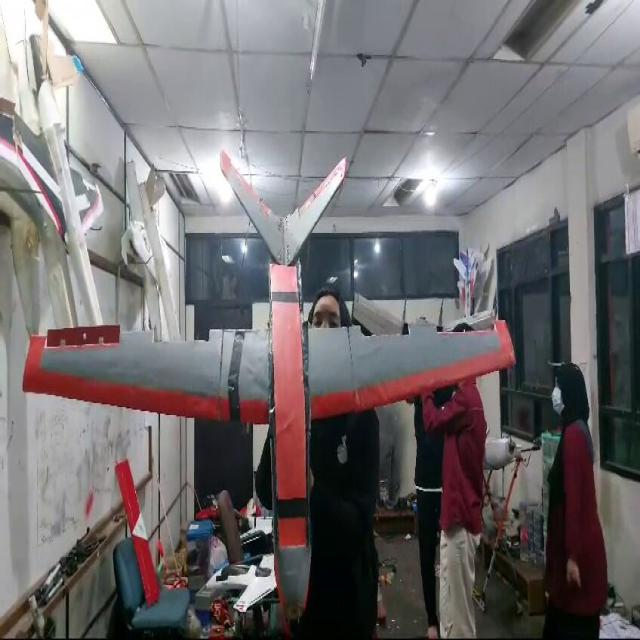plane: (22, 148, 516, 634)
